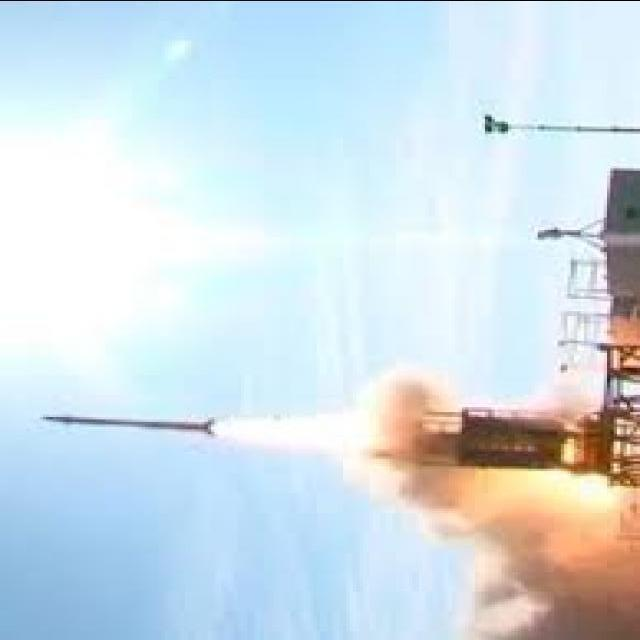missile: (42, 408, 215, 440)
